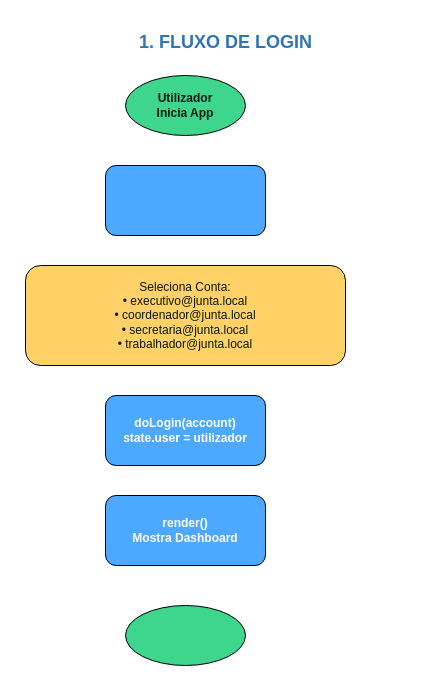
Some shapes in this 442 by 683 pixel diagram are drawn without their labels. Each missing label, with the centre of its shape:
App Pronto: the point at 185,635
renderLogin() (Mostra contas demo): the point at 185,200
